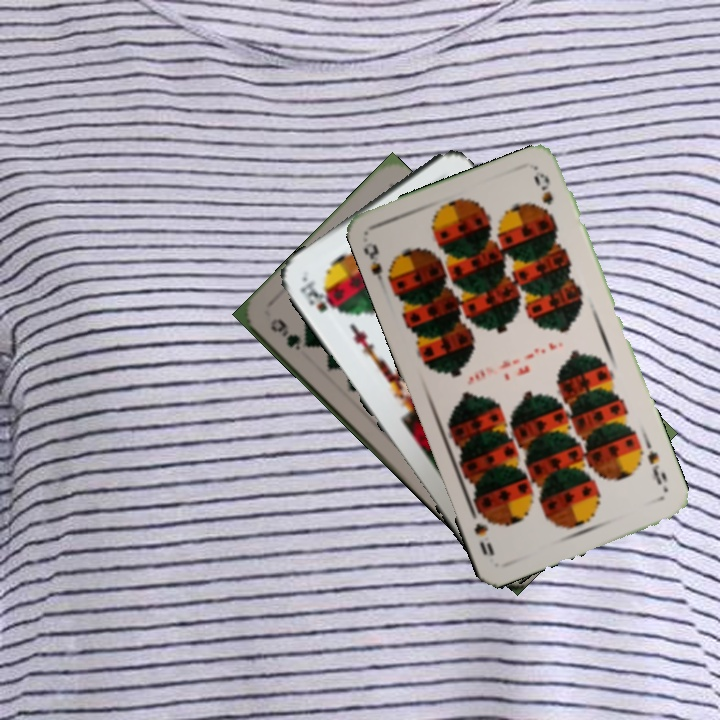G9: (266, 314, 303, 353)
S9: (359, 240, 399, 293), (643, 446, 670, 488)
SK: (295, 276, 337, 315)
